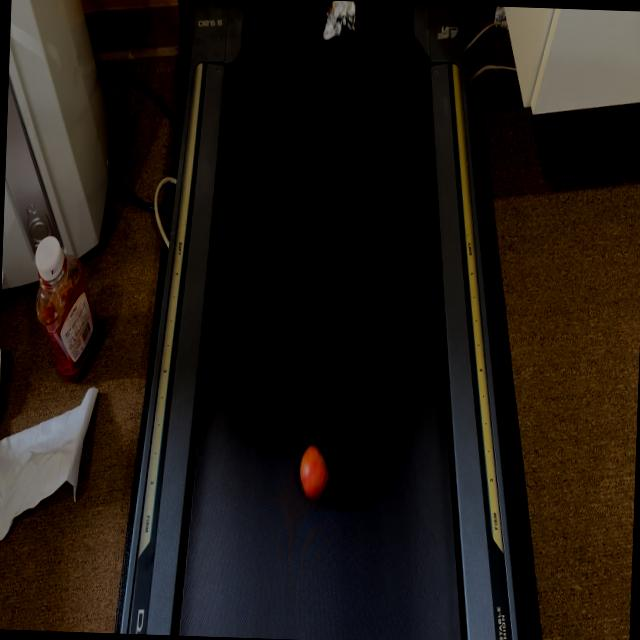Recycle: (319, 0, 372, 54)
Trash: (290, 434, 339, 514)
